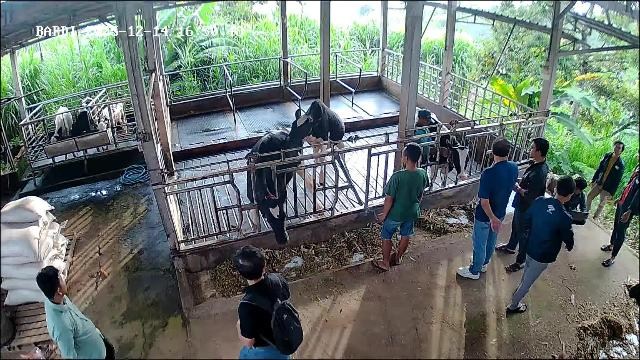mounting: (289, 99, 348, 190)
